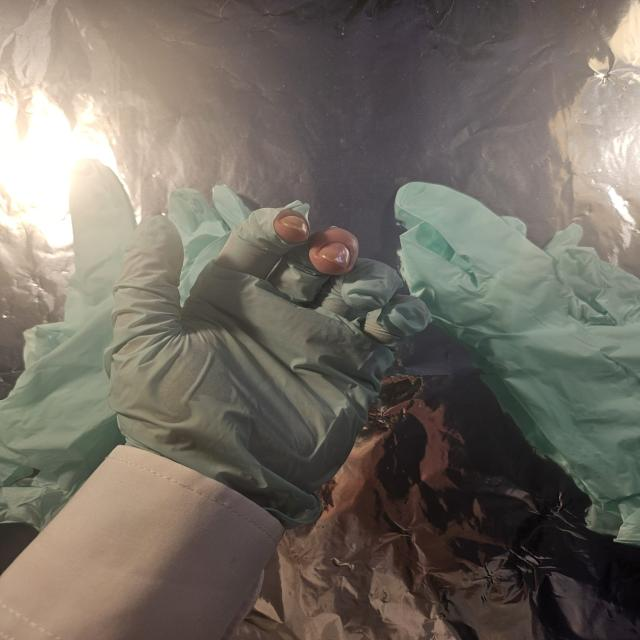gloves_damaged: (110, 196, 433, 532)
